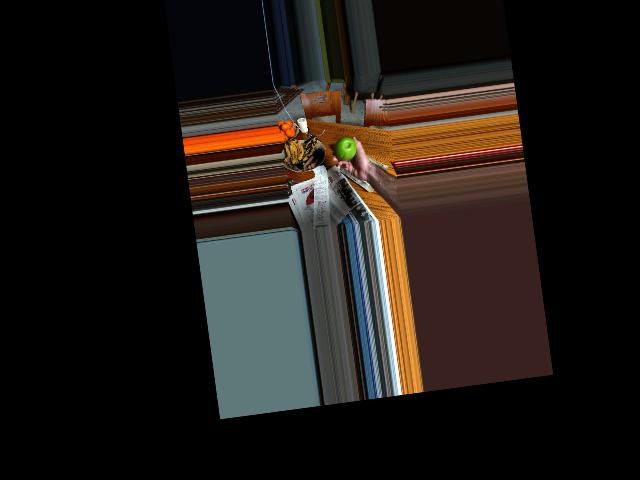apple: (332, 135, 358, 162)
